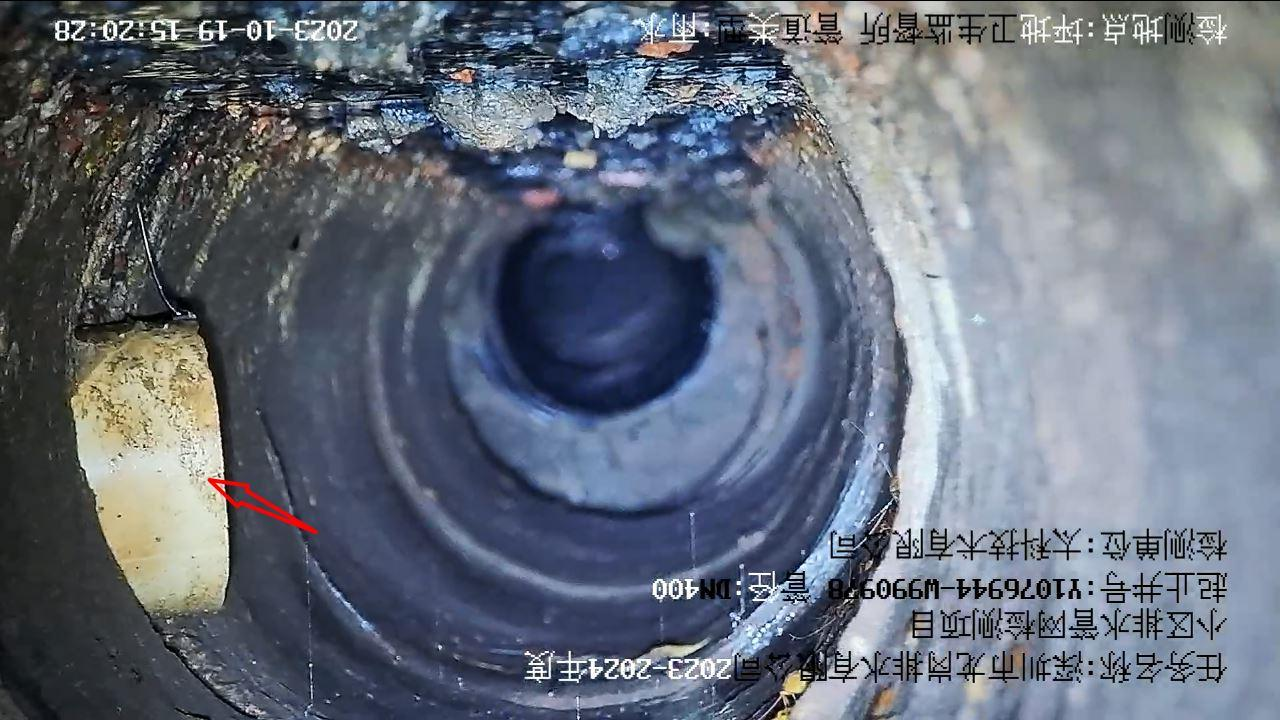CJ: (52, 4, 802, 231)
CKTJ: (686, 325, 903, 677), (508, 680, 704, 711)
ZGAJ: (70, 324, 230, 616)
